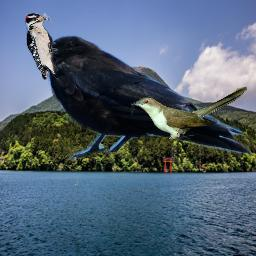Crow: (26, 34, 253, 160)
Cuckoo: (131, 86, 247, 139)
Woodpecker: (25, 13, 57, 80)
